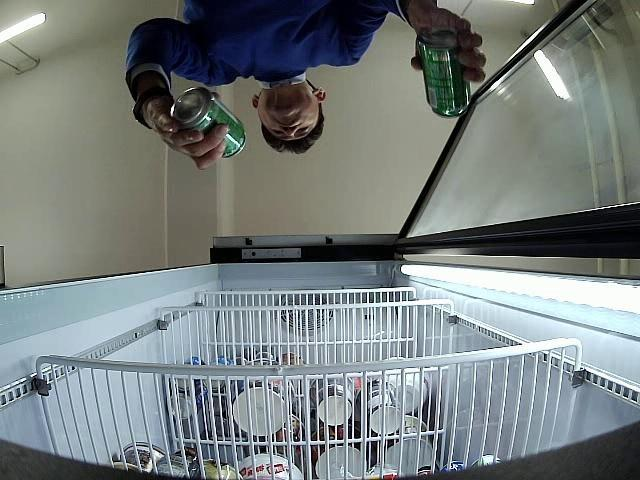12_chilsungCider: (171, 86, 247, 158), (418, 26, 471, 118)
